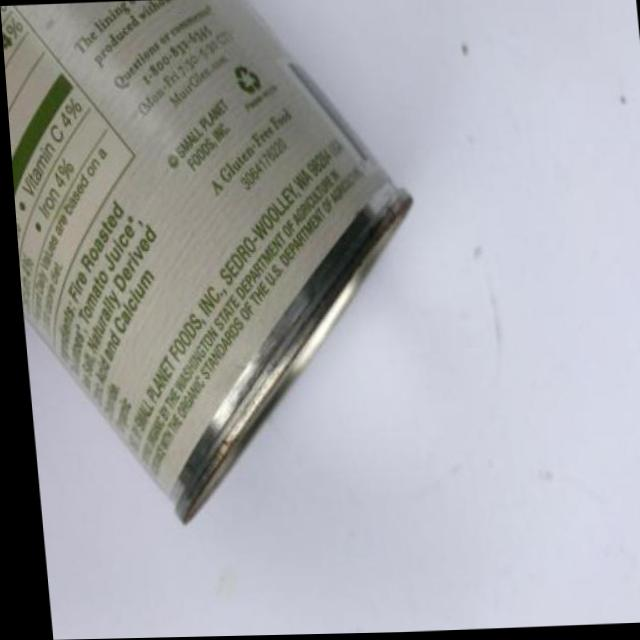metal: (2, 0, 411, 520)
